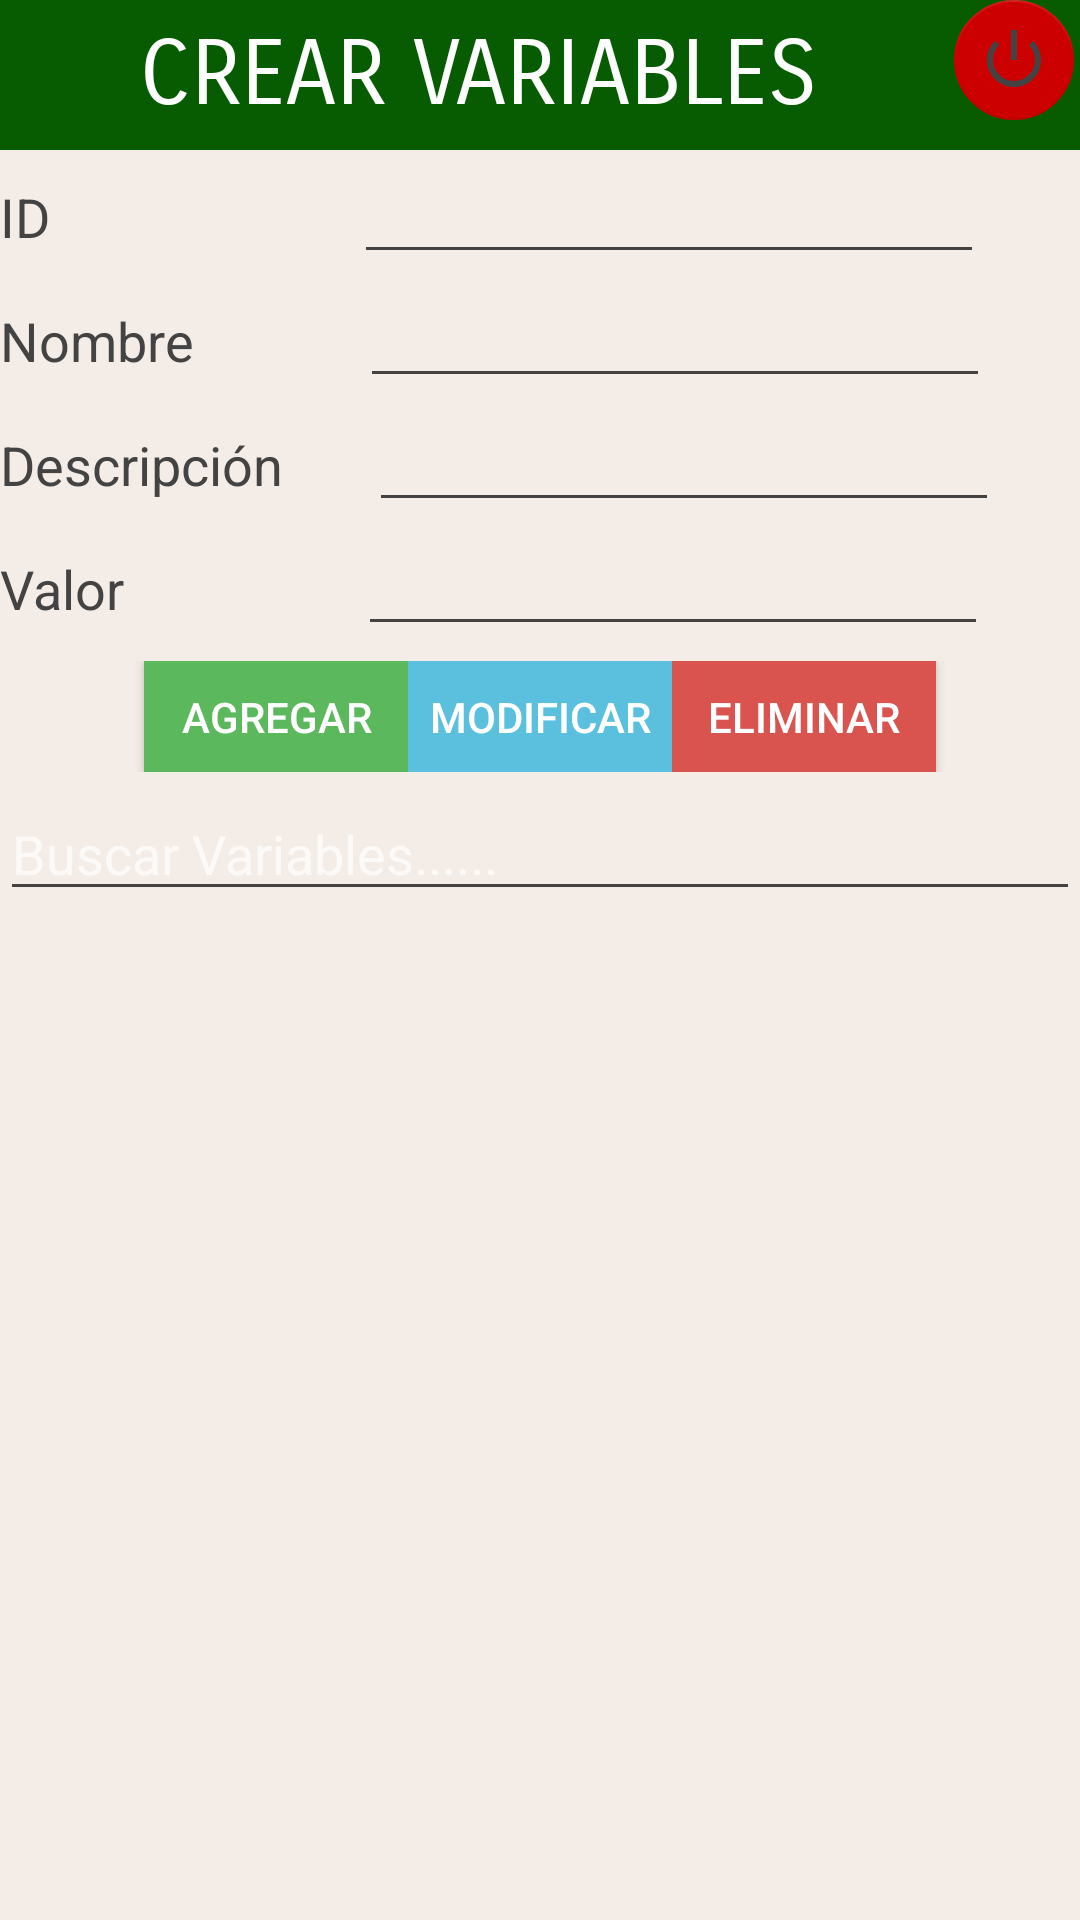

Point at icon controls on the screen. Image size 1080×1920, points as (x,y).
lock power off: (1014,60)
